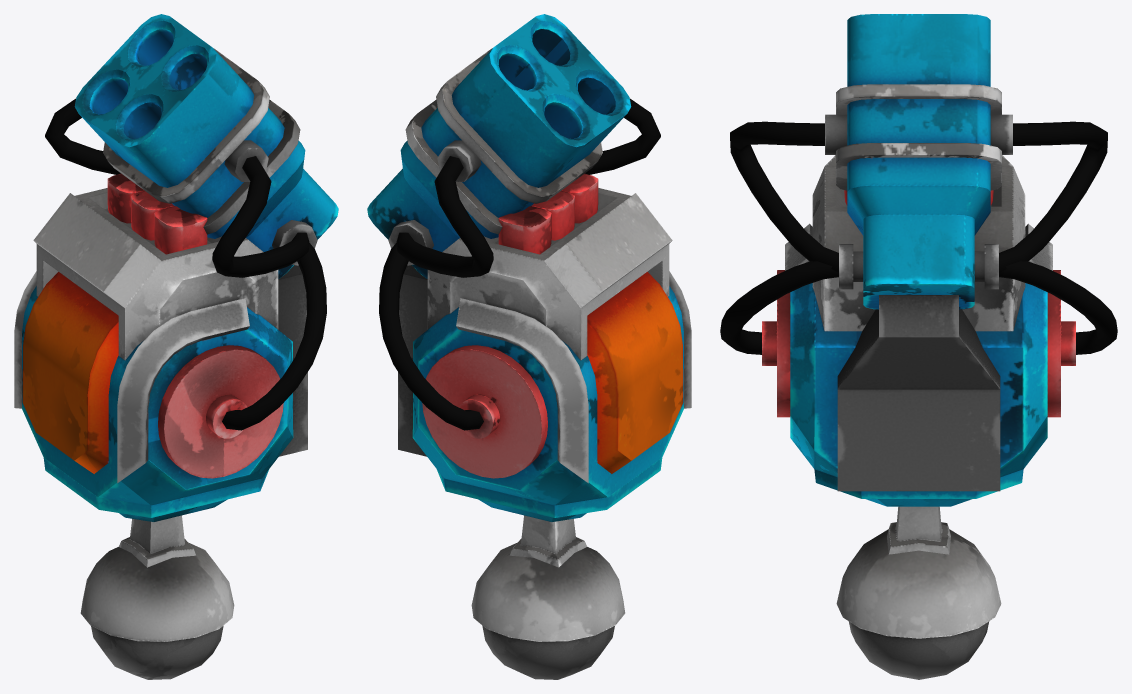
The model's file is robot2 (5).fbx.
3 renders of one model, left to right at view 1: azimuth 30°, elevation 25°; view 2: azimuth 150°, elevation 25°; view 3: azimuth 270°, elevation 25°, orthographic. The views are drawn at different scales.
Visible parts, largest first — view 1: Cube.002; view 2: Cube.002; view 3: Cube.002.
Boxes of the visible parts, x1,y1,x2,y2 form: Cube.002: (14, 14, 338, 679); Cube.002: (367, 14, 691, 679); Cube.002: (720, 14, 1117, 679).
Bounding box in the file's own units: 2.06 × 1.68 × 3.86.
1 material, 1 textured.
